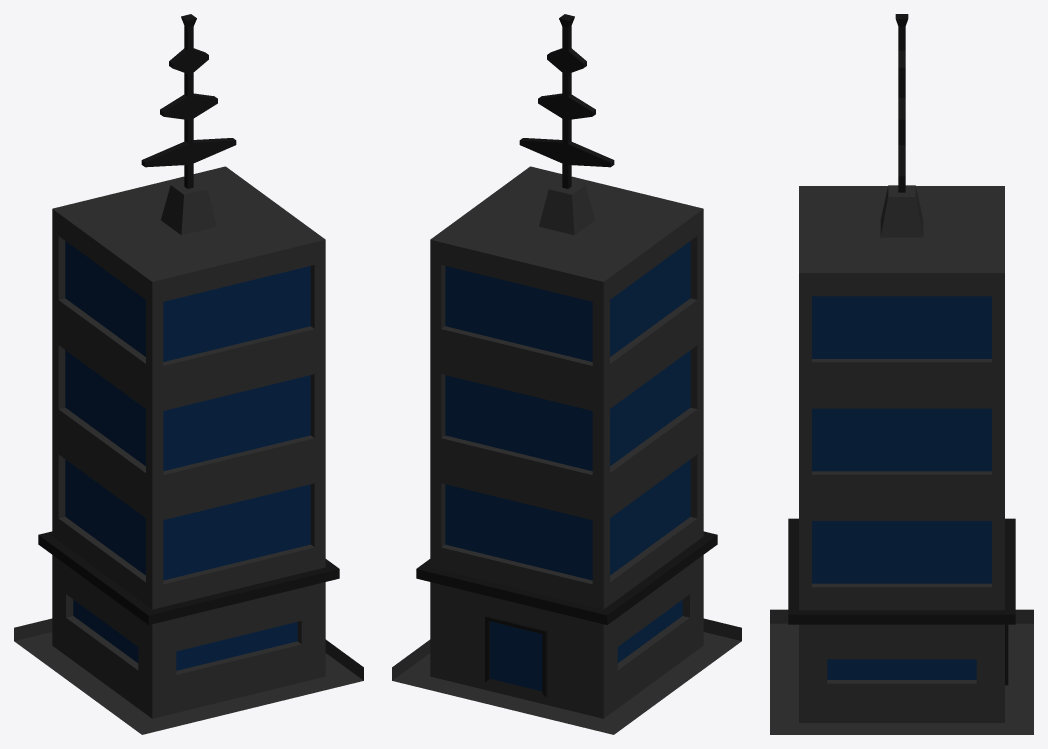
File: building.glb
The picture shows the model from 3 angles, left to right: view 1: azimuth 30°, elevation 25°; view 2: azimuth 150°, elevation 25°; view 3: azimuth 270°, elevation 25°; orthographic projection. The views are drawn at different scales.
Visible parts, largest first — view 1: Cube; view 2: Cube; view 3: Cube.
Part boxes in pixels (x1=…): Cube: x1=14, y1=14, x2=363, y2=734; Cube: x1=392, y1=14, x2=741, y2=734; Cube: x1=770, y1=14, x2=1033, y2=734.
Bounding box in the file's own units: 21.81 × 60.47 × 21.81.
